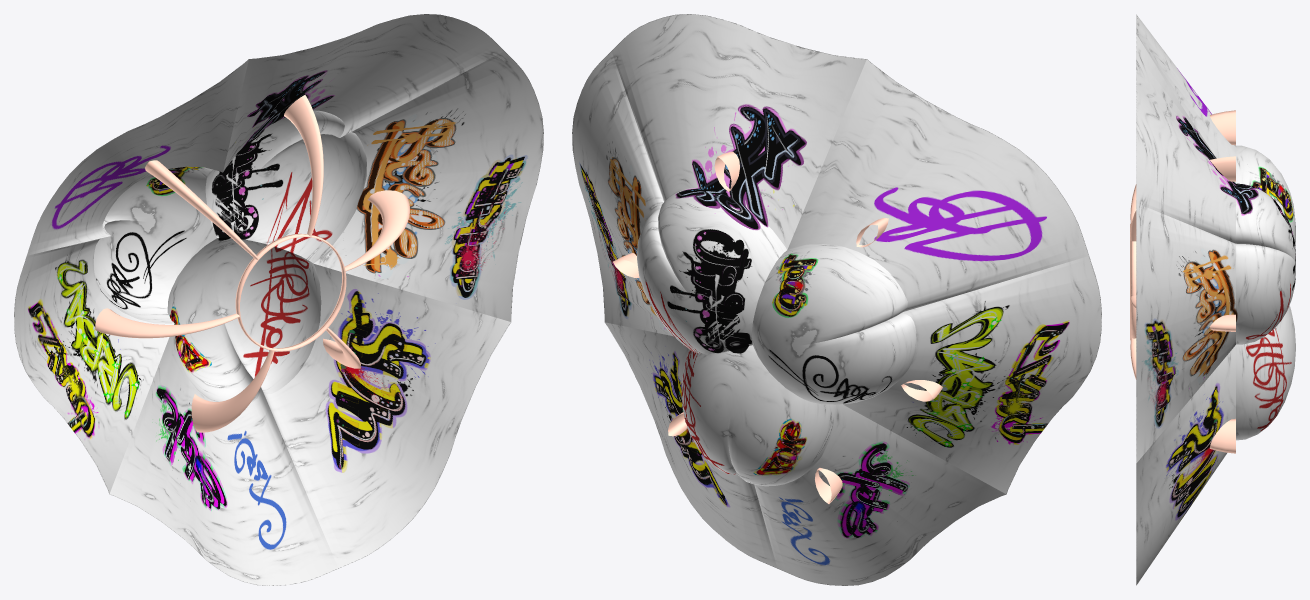
The picture shows the model from 3 angles, left to right: view 1: azimuth 30°, elevation 25°; view 2: azimuth 150°, elevation 25°; view 3: azimuth 270°, elevation 25°; orthographic projection. The views are drawn at different scales.
Visible parts, largest first — view 1: bassin, pillars, ring; view 2: bassin, pillars; view 3: bassin, pillars, ring.
Boxes of the visible parts, x1,y1,x2,y2 form: bassin: (14, 14, 543, 585); pillars: (95, 95, 409, 432); ring: (235, 233, 346, 351); bassin: (572, 14, 1101, 585); pillars: (613, 151, 942, 503); bassin: (1136, 14, 1295, 585); pillars: (1130, 110, 1235, 453); ring: (1130, 223, 1136, 340).
Bounding box in the file's own units: 7.24 × 7.06 × 2.08.
Materials: 3 (1 with a texture image).
